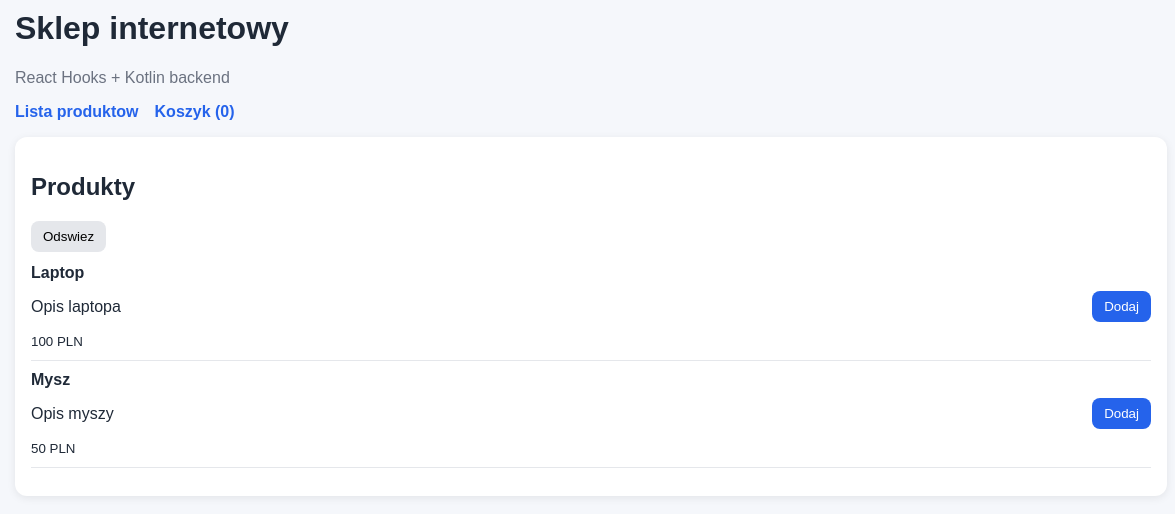
App › dodaje rozne produkty i zwieksza ilosc istniejacego w koszyku
This screenshot has width=1175, height=514.
Expected: the text "Laptop" is shown, x1=31 y1=264 x2=84 y2=281
Click the button "Dodaj" in the row of "Opis laptopa" at (1122, 307), box x1=1092 y1=291 x2=1151 y2=322
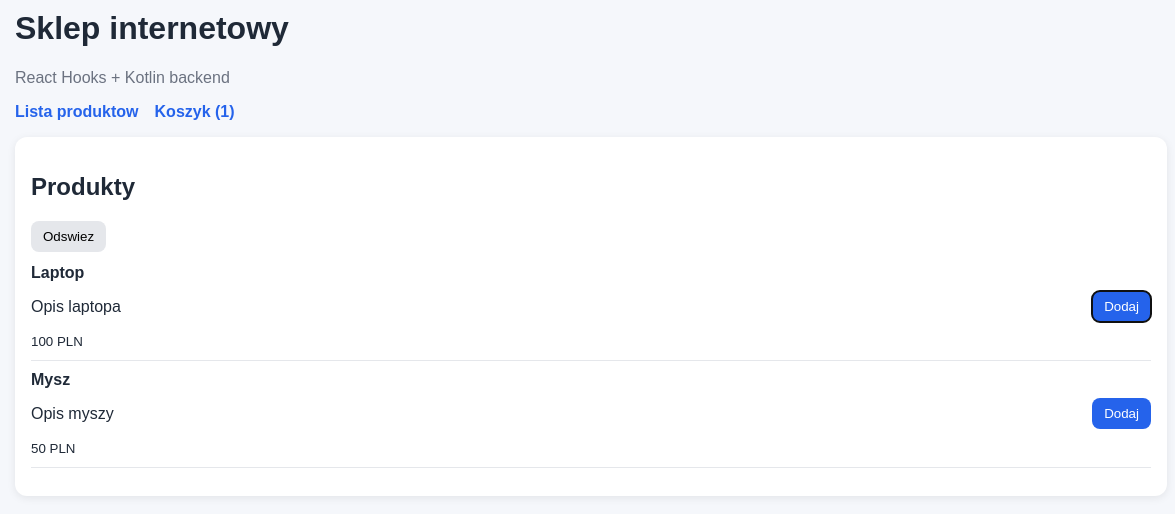
Click the button "Dodaj" in the row of "Opis myszy" at (1122, 414), box x1=1092 y1=398 x2=1151 y2=429
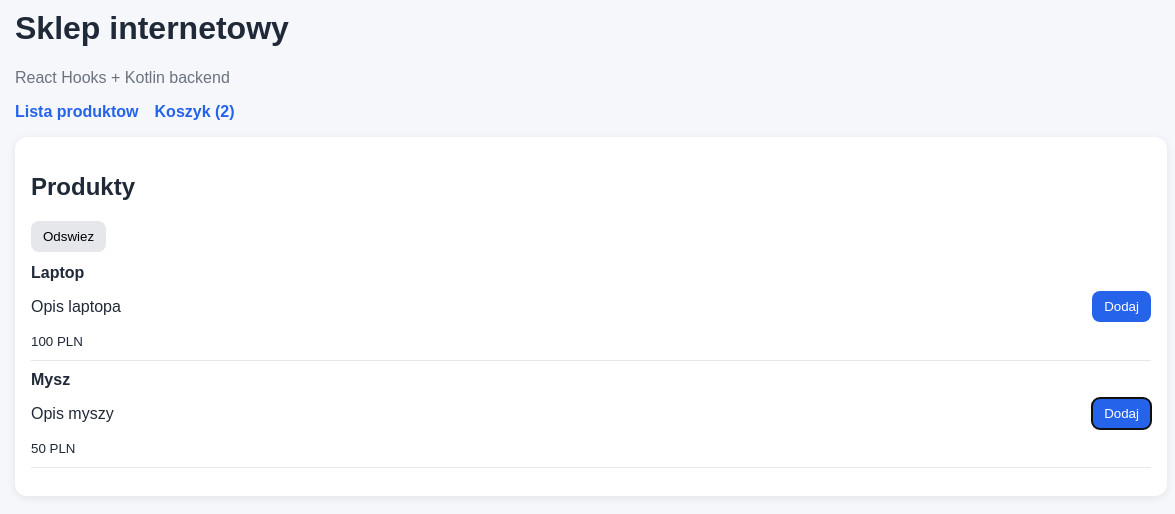
Click the button "Dodaj" in the row of "Opis laptopa" at (1122, 307), box x1=1092 y1=291 x2=1151 y2=322
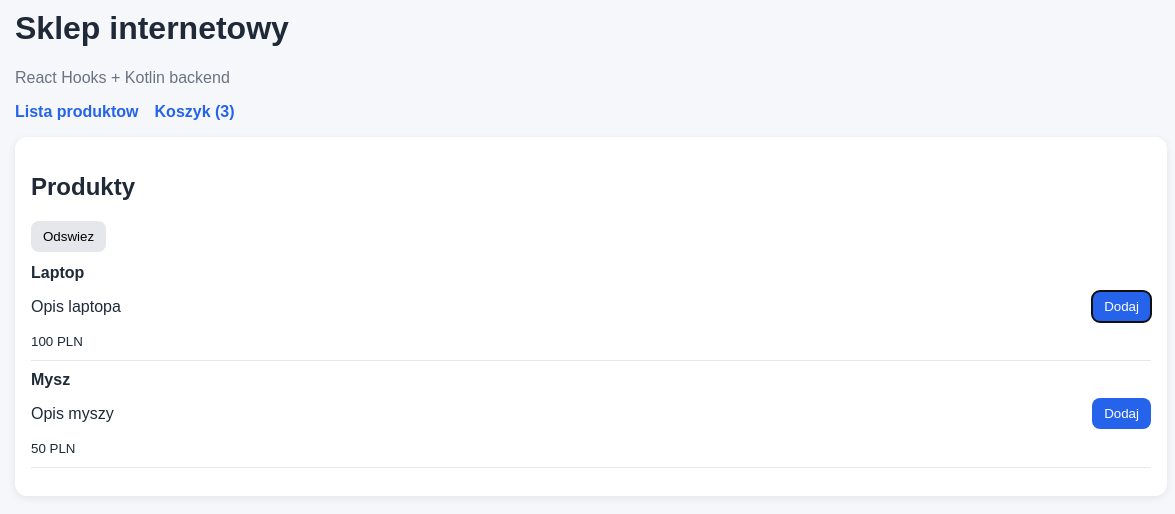
Expected: the link "Koszyk (3)" is shown, x1=155 y1=103 x2=235 y2=121
